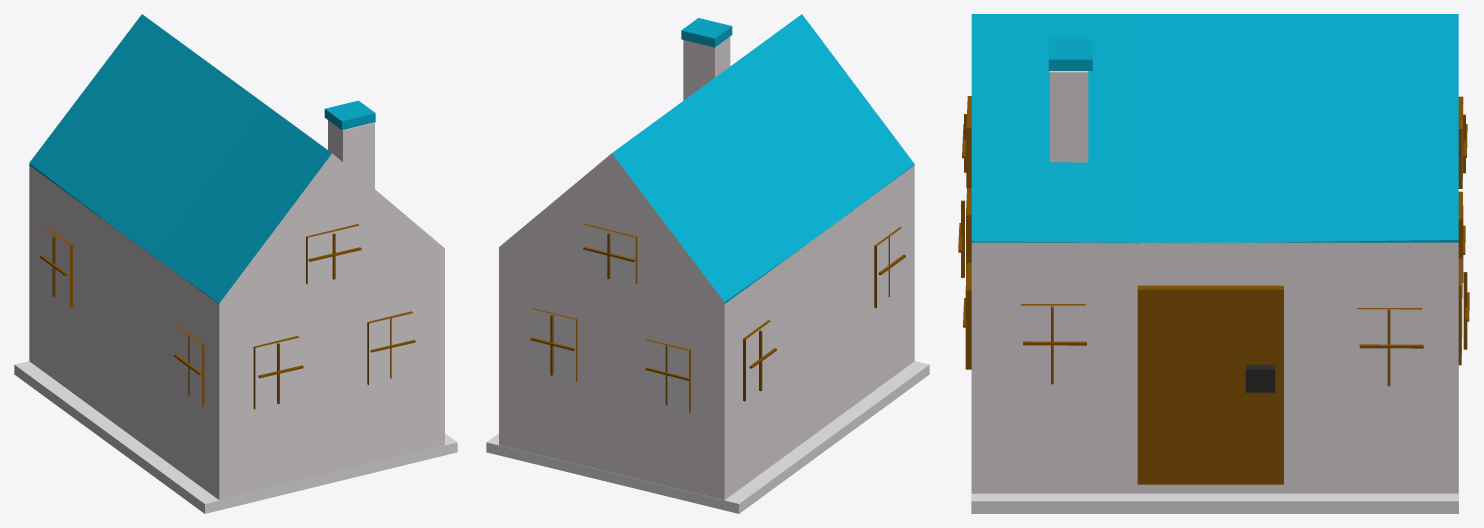
File: House.fbx
The picture shows the model from 3 angles, left to right: view 1: azimuth 30°, elevation 25°; view 2: azimuth 150°, elevation 25°; view 3: azimuth 270°, elevation 25°; orthographic projection. The views are drawn at different scales.
Visible parts, largest first — view 1: Cube, Cube.002, Cube.019, Cube.018, Cube.020, Cube.021, Cube.028, Cube.027, Cube.022; view 2: Cube, Cube.002, Cube.005, Cube.004, Cube.003, Cube.021, Cube.028, Cube.027, Cube.022; view 3: Cube, Cube.001, Cube.002, Cube.029, Cube.030, Cube.021, Cube.022, Cube.035, Cube.019.
Part boxes in pixels (x1=…): Cube: x1=29, y1=14, x2=444, y2=500; Cube.002: x1=14, y1=361, x2=457, y2=513; Cube.019: x1=367, y1=311, x2=413, y2=385; Cube.018: x1=253, y1=336, x2=299, y2=409; Cube.020: x1=306, y1=224, x2=359, y2=284; Cube.021: x1=328, y1=120, x2=374, y2=188; Cube.028: x1=176, y1=326, x2=204, y2=406; Cube.027: x1=44, y1=226, x2=72, y2=307; Cube.022: x1=324, y1=100, x2=375, y2=130; Cube: x1=499, y1=14, x2=914, y2=500; Cube.002: x1=486, y1=361, x2=929, y2=513; Cube.005: x1=645, y1=339, x2=690, y2=412; Cube.004: x1=532, y1=308, x2=577, y2=381; Cube.003: x1=584, y1=224, x2=637, y2=284; Cube.021: x1=683, y1=36, x2=730, y2=100; Cube.028: x1=874, y1=227, x2=902, y2=308; Cube.027: x1=743, y1=320, x2=771, y2=401; Cube.022: x1=681, y1=18, x2=732, y2=47; Cube: x1=971, y1=14, x2=1458, y2=493; Cube.001: x1=1137, y1=285, x2=1283, y2=484; Cube.002: x1=971, y1=365, x2=1458, y2=513; Cube.029: x1=1357, y1=308, x2=1422, y2=388; Cube.030: x1=1020, y1=304, x2=1085, y2=384; Cube.021: x1=1049, y1=71, x2=1088, y2=162; Cube.022: x1=1048, y1=38, x2=1092, y2=70; Cube.035: x1=1245, y1=364, x2=1275, y2=392; Cube.019: x1=965, y1=263, x2=971, y2=369.
Size of the model in its own units: 225 by 279 by 307.
